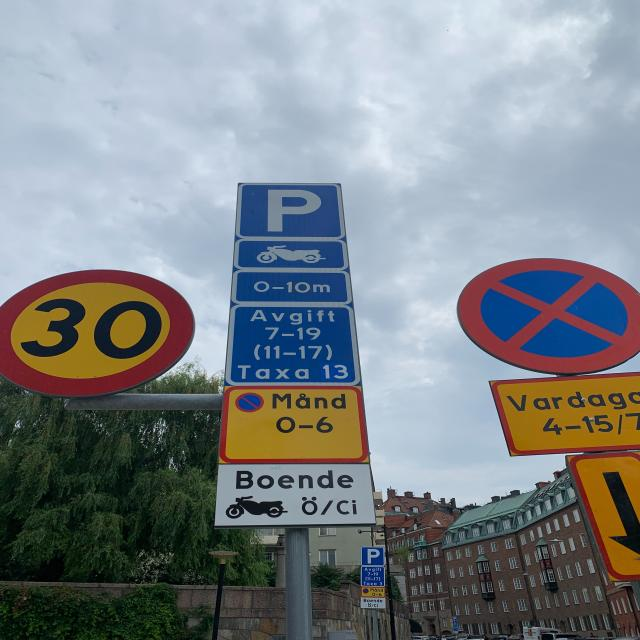psign: (236, 183, 347, 240), (362, 546, 384, 566)
